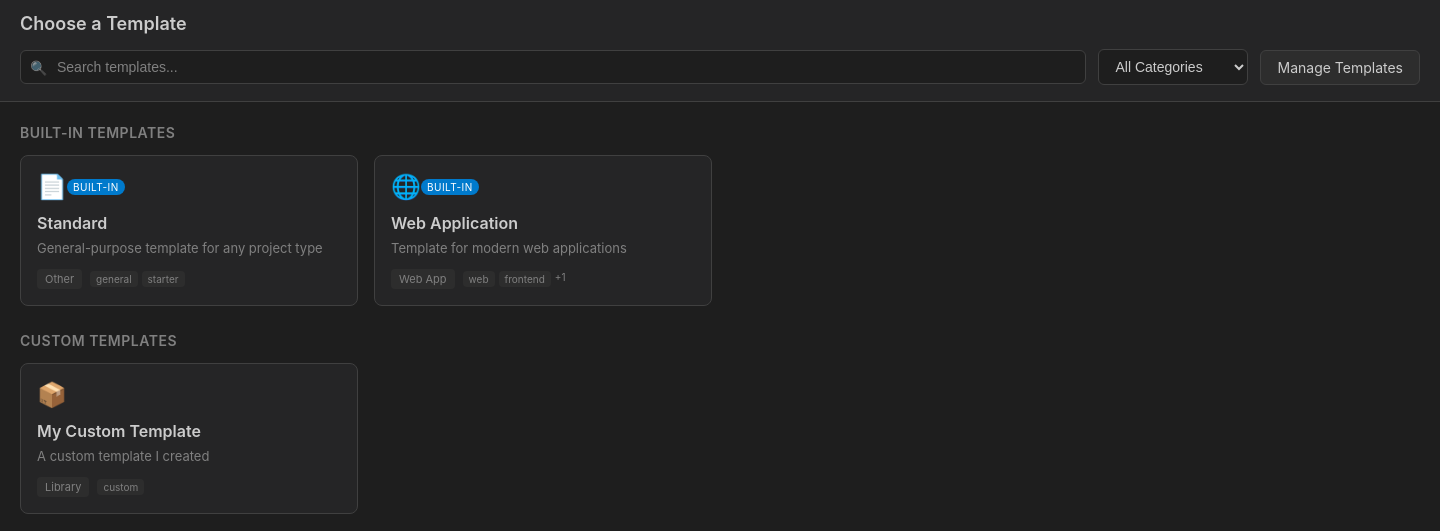
Test: TemplateSelector › filters templates by search query
Type "web" into the field with placeholder "Search templates..." at (553, 67), box [20,50,1086,84]
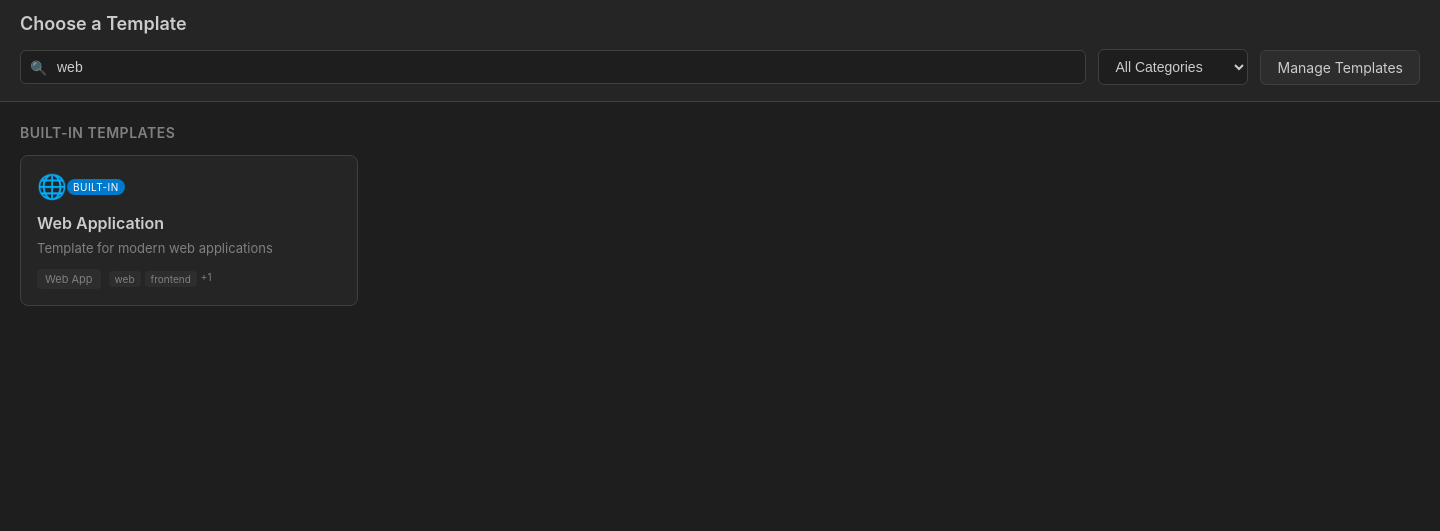
Expected: the heading "Web Application" is shown, [37,213,164,233]
Result: the button "Standard" is gone
Result: the button "My Custom Template" is gone
